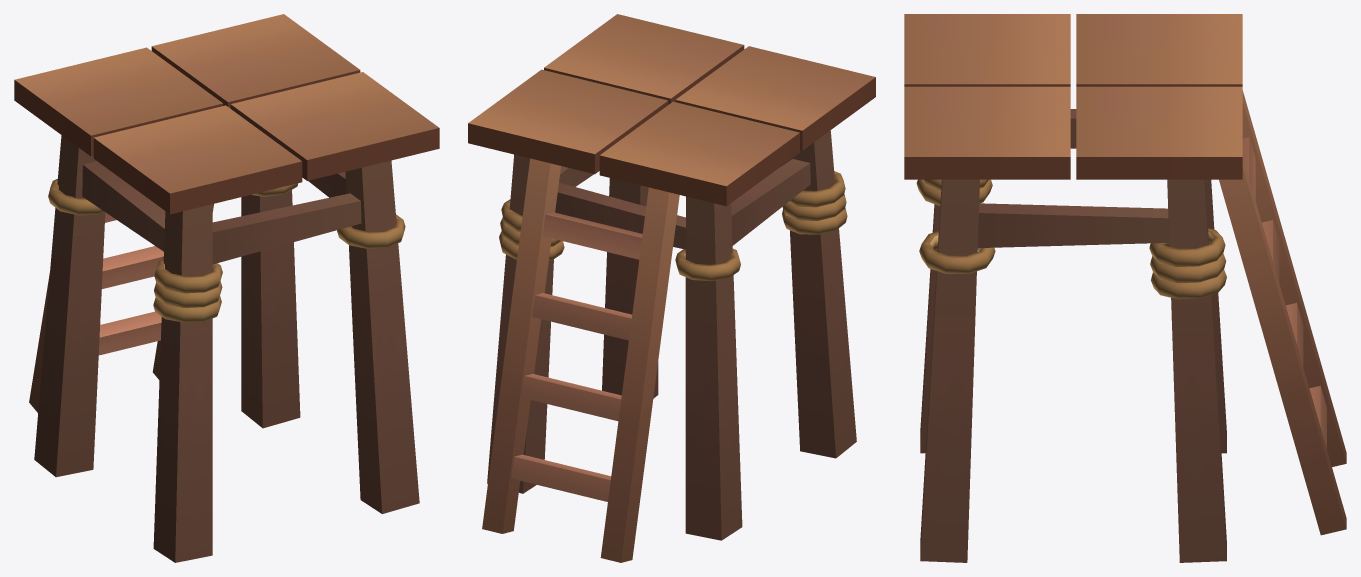
File: AttackTower.fbx
3 renders of one model, left to right at view 1: azimuth 30°, elevation 25°; view 2: azimuth 150°, elevation 25°; view 3: azimuth 270°, elevation 25°, orthographic. The views are drawn at different scales.
Parts seen in each view (by area): view 1: attacktower0; view 2: attacktower0; view 3: attacktower0.
Boxes of the visible parts, bbox=[...] form: attacktower0: bbox=[14, 14, 439, 562]; attacktower0: bbox=[468, 14, 875, 562]; attacktower0: bbox=[904, 14, 1346, 562].
Bounding box in the file's own units: 2.05 × 2.78 × 2.68.
1 material, 1 textured.
